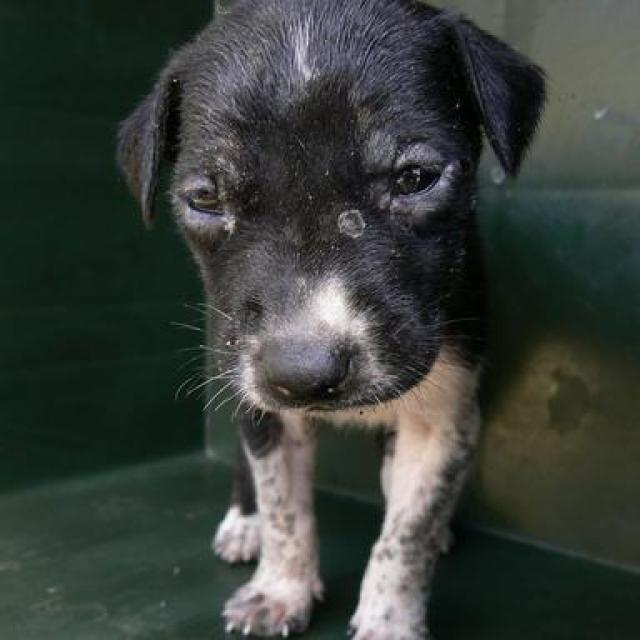sad: (111, 0, 565, 638)
